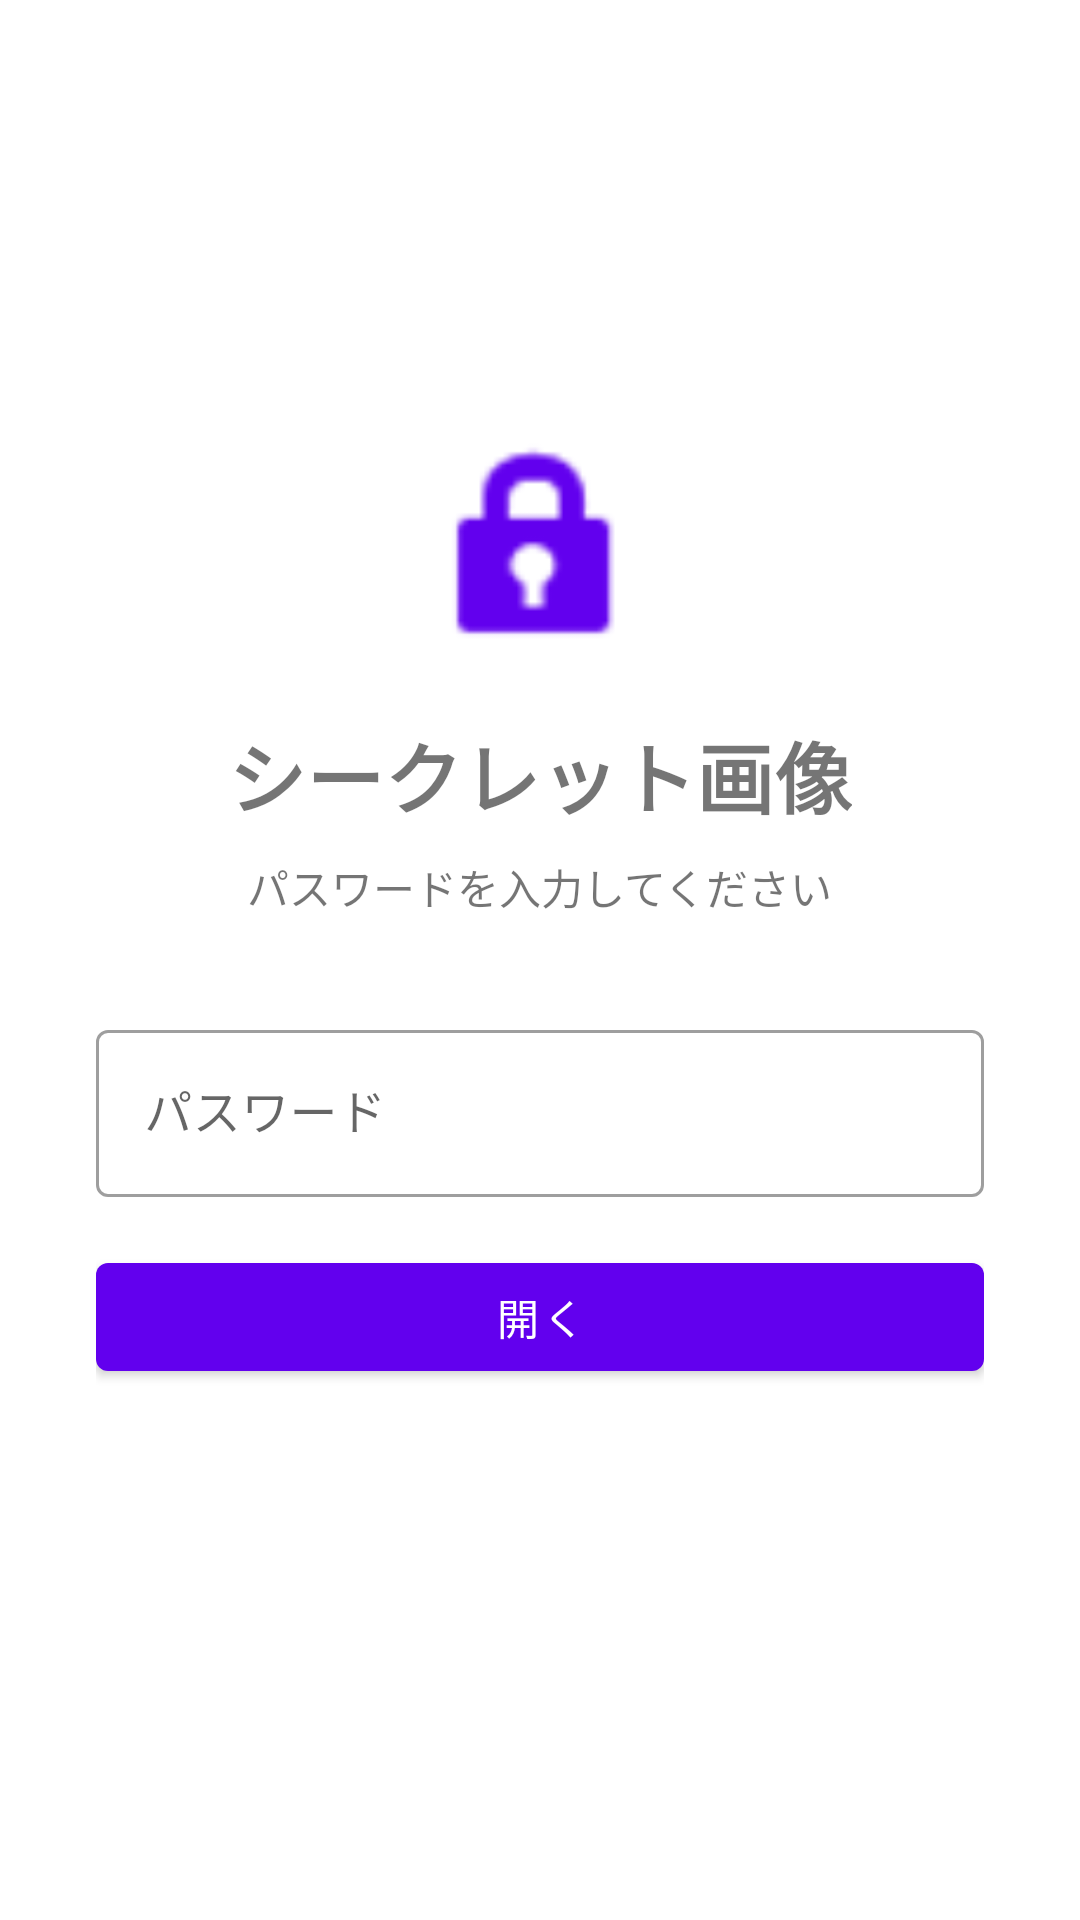

Named icons in this screenshot (1080×1920) and their centers, (x=x, y=y):
lock idle: (x=535, y=541)
